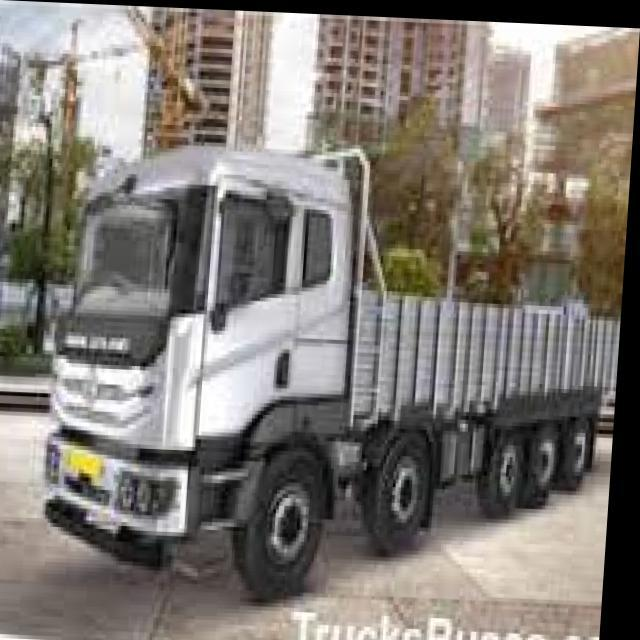uncovered: (46, 124, 634, 596)
